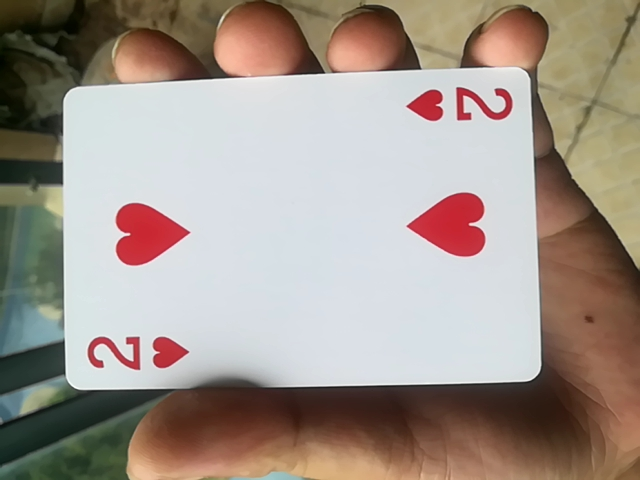hx 2: (53, 60, 546, 405)
